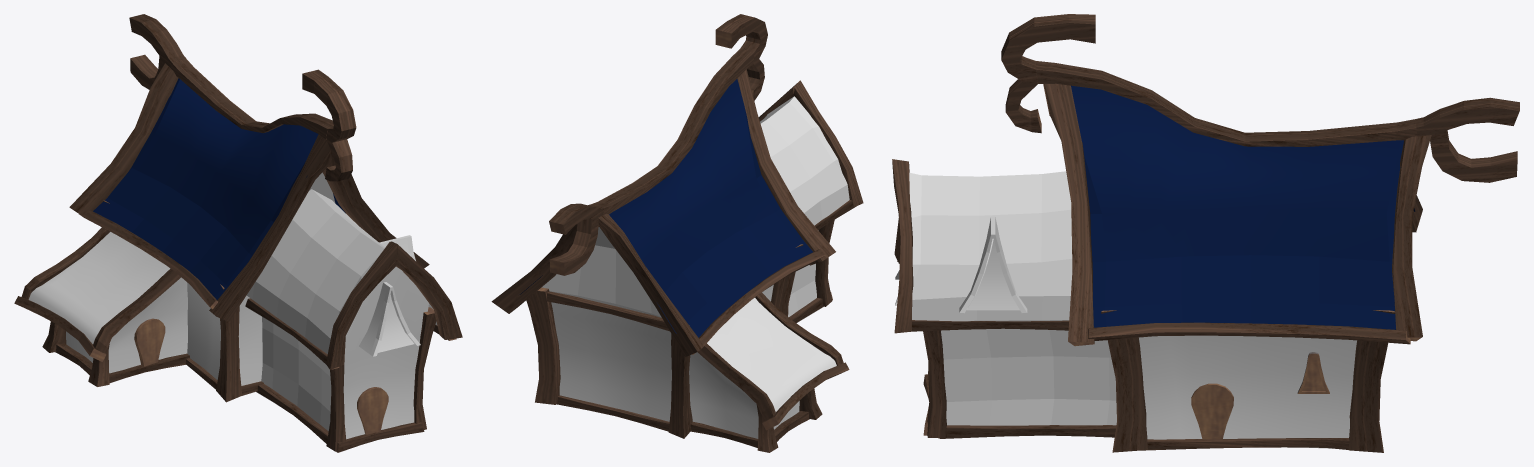
Rendered from classic2.fbx.
3 renders of one model, left to right at view 1: azimuth 30°, elevation 25°; view 2: azimuth 150°, elevation 25°; view 3: azimuth 270°, elevation 25°, orthographic. The views are drawn at different scales.
Parts seen in each view (by area): view 1: Box1334, Object1588, Object1549, Object1518, Object1568, Object1524, Object1567, Object1566, Object1570, Box1333, Object1547, Object1569 (+20 smaller); view 2: Box1334, Object1568, Object1518, Object1549, Object1524, Box1333, Object1567, Object1566, Object1559, Object1569, Object1570, Object1556 (+16 smaller); view 3: Box1334, Object1549, Object1568, Object1588, Box1333, Object1557, Object1569, Object1556, Object1570, Object1553, Object1550, Object1559 (+9 smaller).
Part boxes in pixels (x1,y1,x2,y2): Box1334: (93, 78, 345, 299); Object1588: (261, 266, 428, 439); Object1549: (246, 189, 437, 353); Object1518: (28, 232, 170, 343); Object1568: (187, 172, 335, 385); Object1524: (66, 277, 187, 373); Object1567: (209, 134, 332, 321); Object1566: (69, 63, 178, 216); Object1570: (302, 69, 356, 181); Box1333: (171, 58, 333, 139); Object1547: (326, 241, 397, 369); Object1569: (129, 14, 185, 89); Box1334: (519, 79, 812, 337); Object1568: (542, 227, 773, 421); Object1518: (707, 298, 836, 411); Object1549: (760, 96, 849, 225); Object1524: (689, 352, 799, 438); Box1333: (590, 49, 754, 214); Object1567: (737, 69, 835, 265); Object1566: (598, 214, 703, 356); Object1559: (526, 287, 560, 404); Object1569: (549, 203, 603, 275); Object1570: (715, 14, 767, 100); Object1556: (491, 224, 598, 313); Box1334: (1071, 85, 1415, 329); Object1549: (909, 171, 1072, 321); Object1568: (1139, 335, 1356, 448); Object1588: (941, 328, 1116, 425); Box1333: (1036, 61, 1417, 146); Object1557: (1044, 83, 1094, 346); Object1569: (1416, 97, 1519, 182); Object1556: (1392, 135, 1431, 341); Object1570: (1001, 14, 1095, 133); Object1553: (1088, 322, 1410, 344); Object1550: (1101, 310, 1147, 452); Object1559: (1348, 310, 1395, 452).
Bounding box in the file's own units: 602 × 649 × 941.
